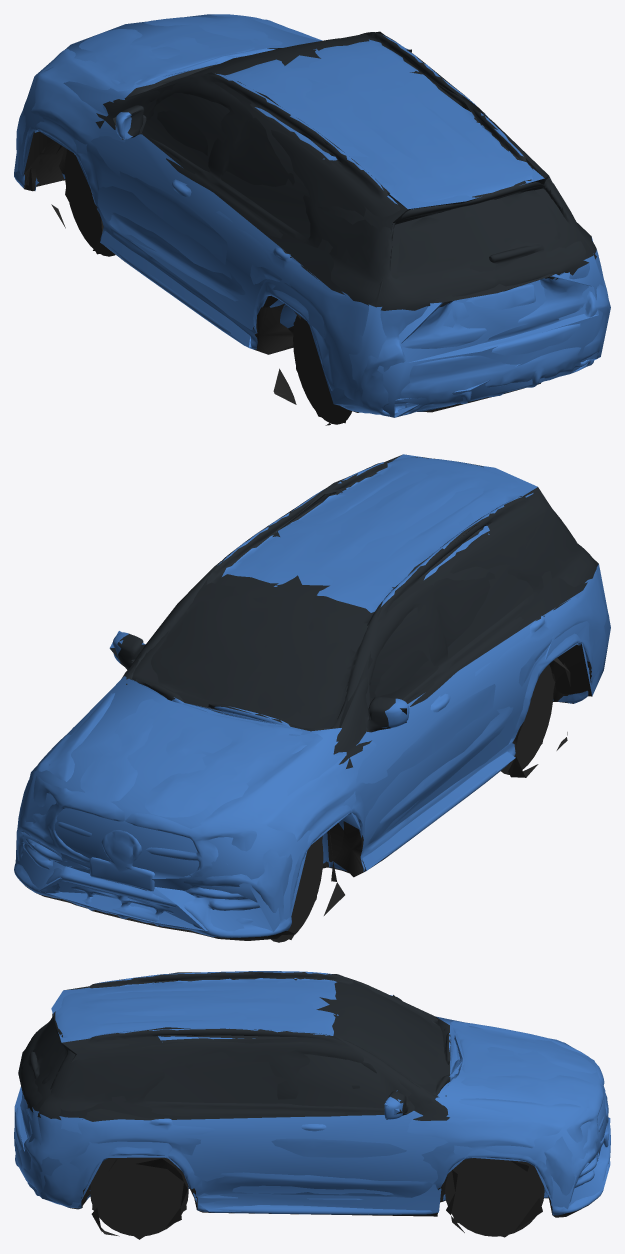
File: mercedes-benz-gle.glb
The picture shows the model from 3 angles, top to bottom: view 1: azimuth 30°, elevation 25°; view 2: azimuth 150°, elevation 25°; view 3: azimuth 270°, elevation 25°; orthographic projection. The views are drawn at different scales.
Visible parts, largest first — view 1: body, far; view 2: body, far; view 3: body, far.
Part boxes in pixels (<box>): body: <box>14,14,609,425</box>; far: <box>14,14,610,423</box>; body: <box>14,457,609,942</box>; far: <box>15,454,610,939</box>; body: <box>14,971,610,1236</box>; far: <box>14,972,610,1239</box>.
Size of the model in its own units: 2.18 by 1.86 by 4.94.
